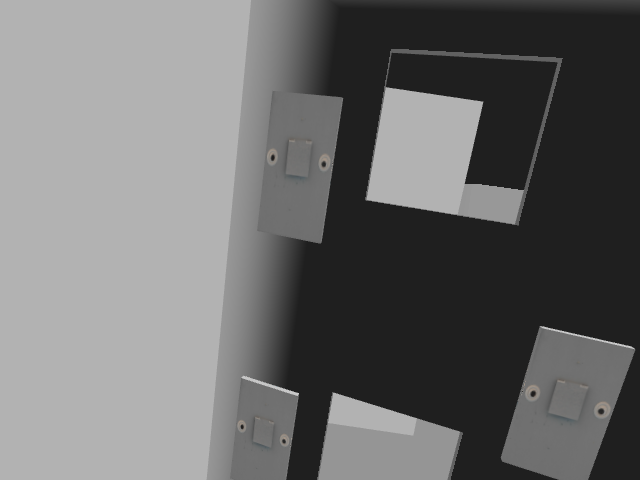facade: (524, 376, 610, 424), (265, 137, 330, 180), (236, 416, 289, 450)
